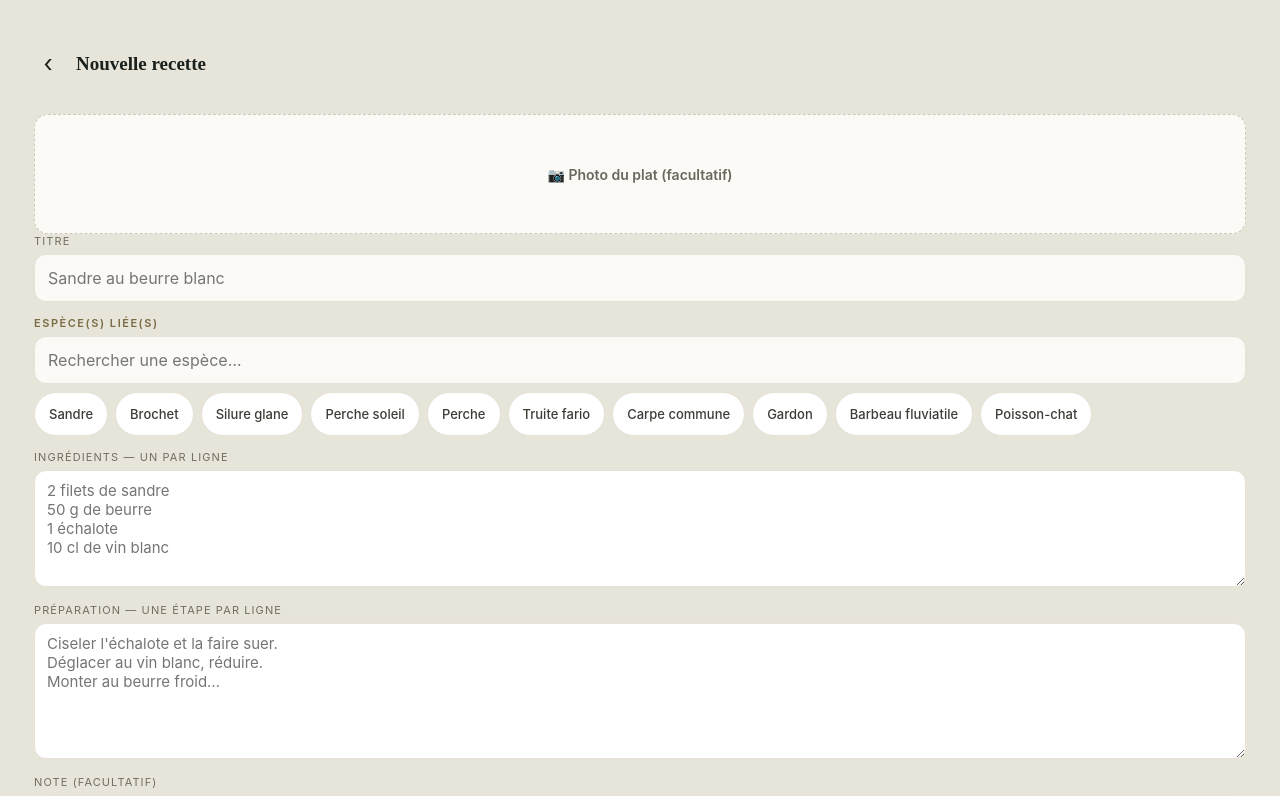
it: RecipeEditor — sélecteur d'espèces › laisse choisir une espèce sous régime spécial
Type "Anguille européenne" into the field named "Rechercher l'espèce" at {"x": 640, "y": 360}, box [34,336,1246,384]
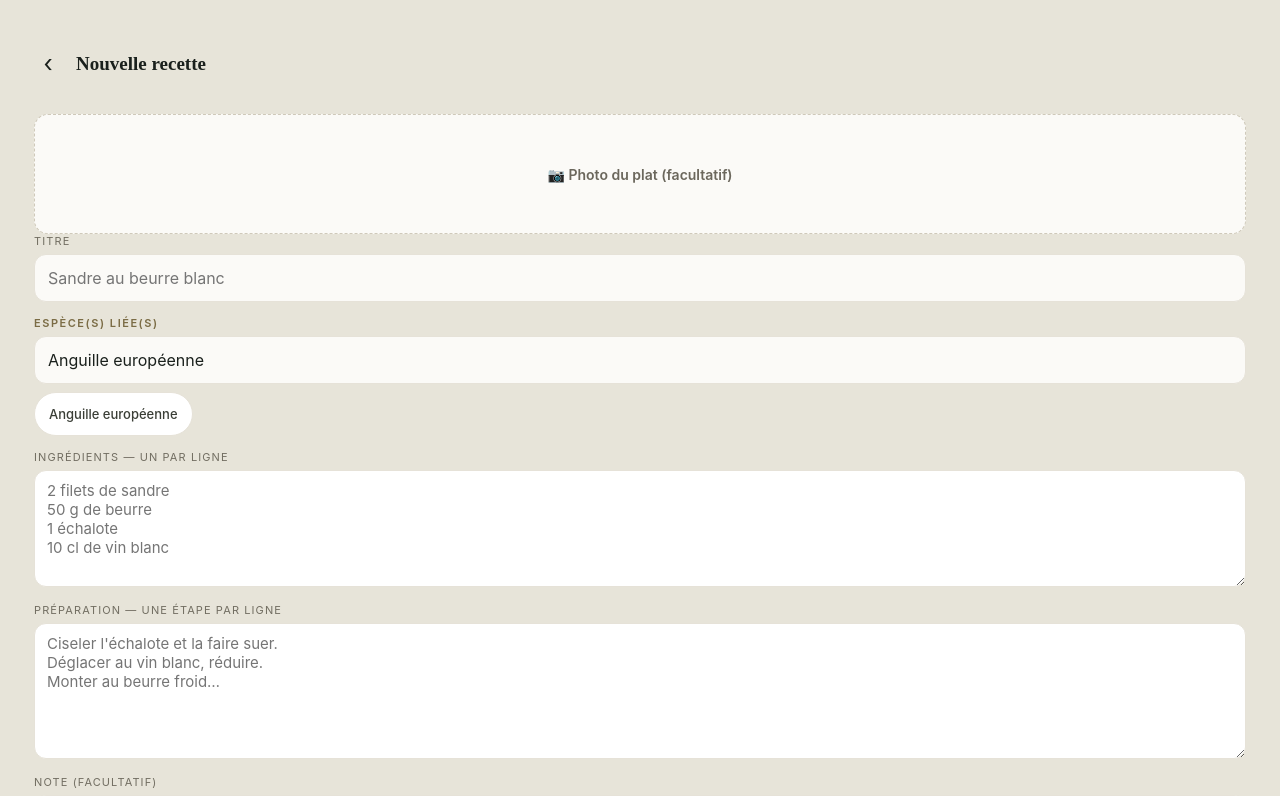
Result: the button "Anguille européenne" is shown at [34,392,192,436]
